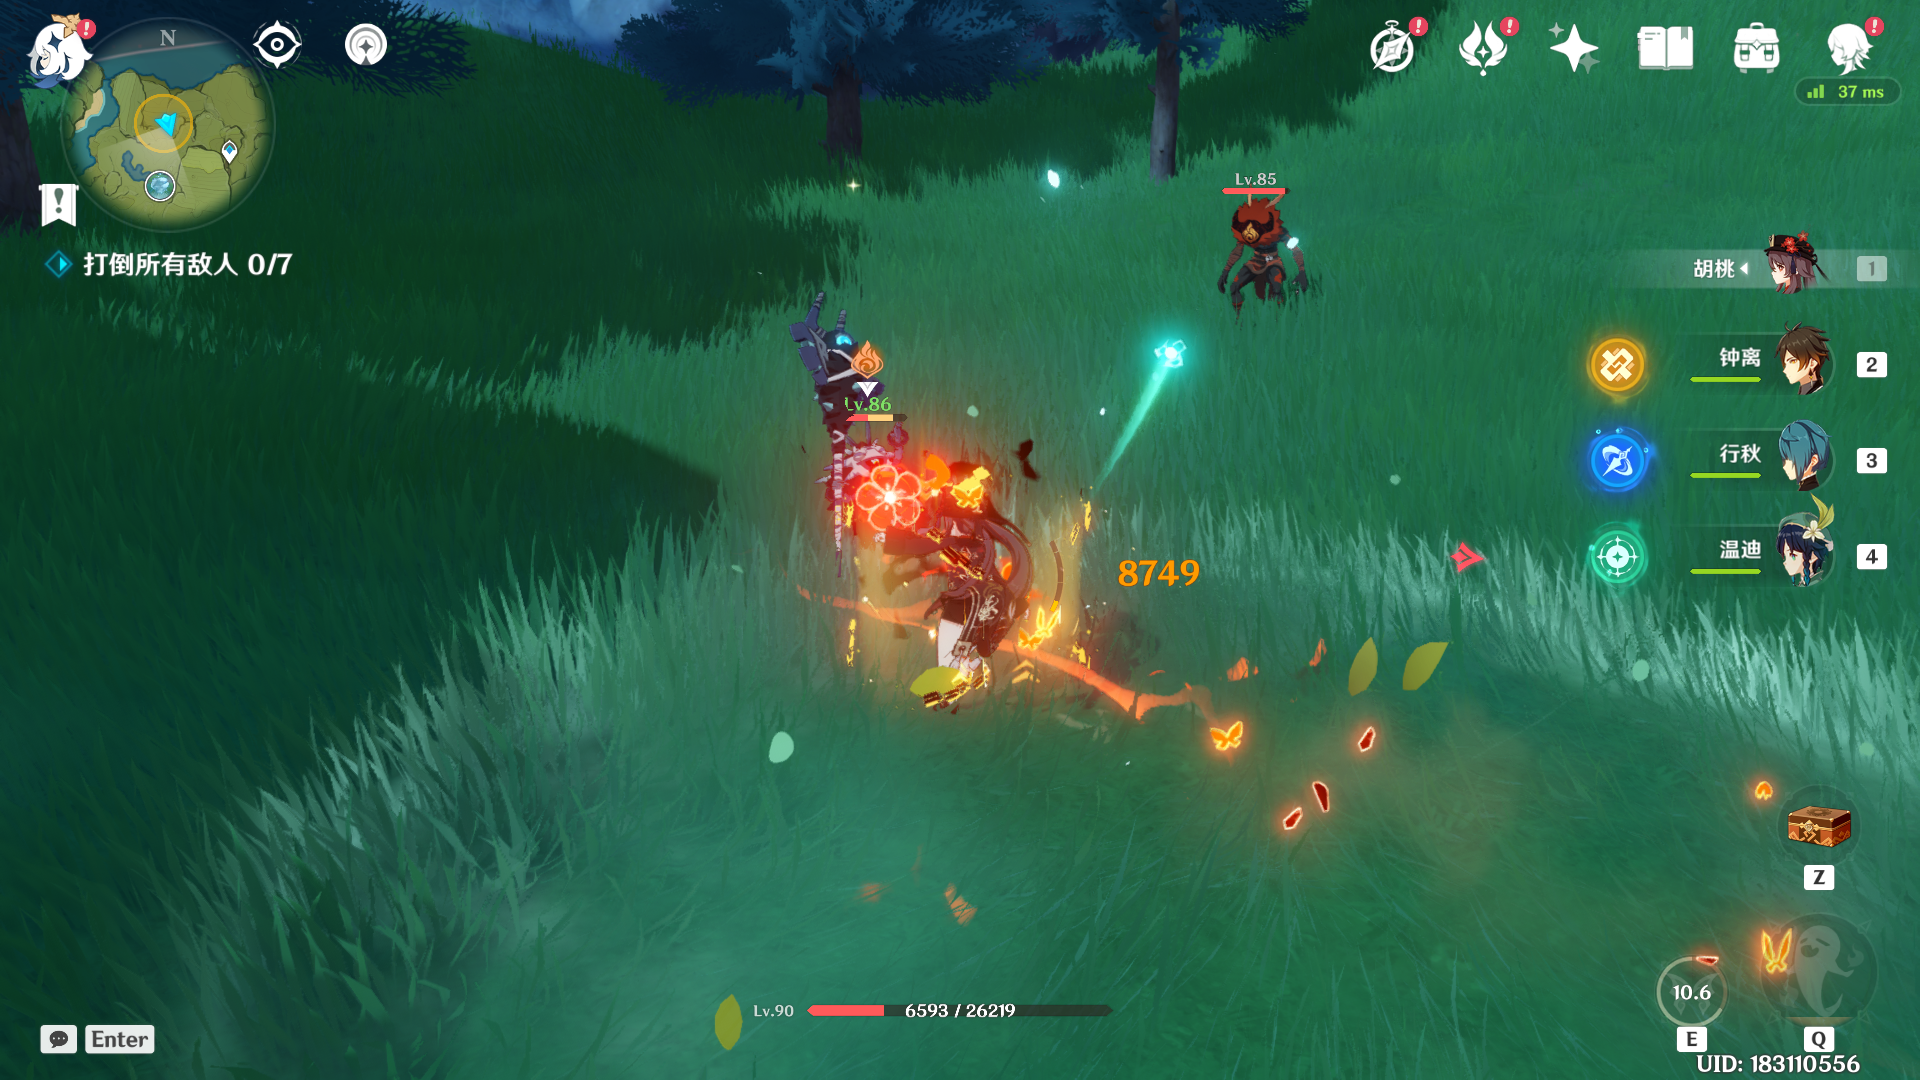character: (858, 435, 1087, 753)
hili: (758, 295, 913, 592), (1151, 179, 1331, 332)
